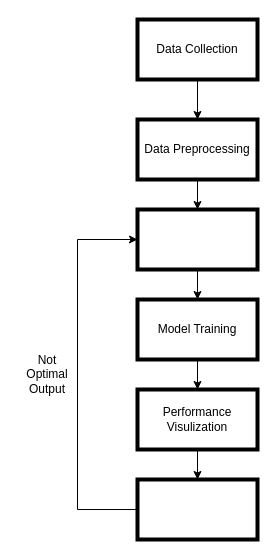
Some shapes in this 276 by 558 pixel diagram are drawn without their labels. The box of each missing label's shape, as (x1, y1, x2, y2) in pixels:
Evaluation: (135, 477, 259, 541)
Parameter Tuning: (135, 207, 259, 271)
